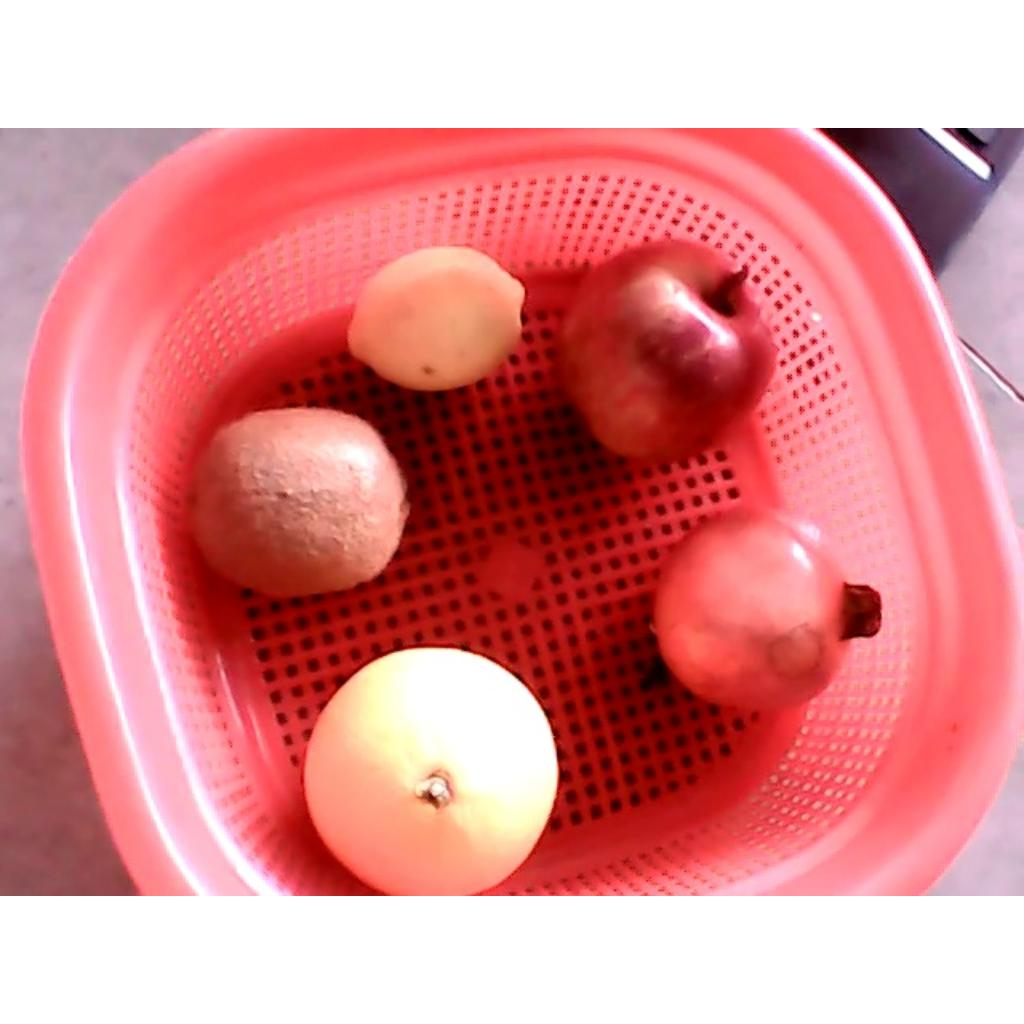apple: (553, 236, 782, 462)
kiwi: (185, 408, 411, 596)
lemon: (346, 246, 525, 393)
orange: (303, 648, 560, 894)
pomegranate: (652, 502, 885, 714)
